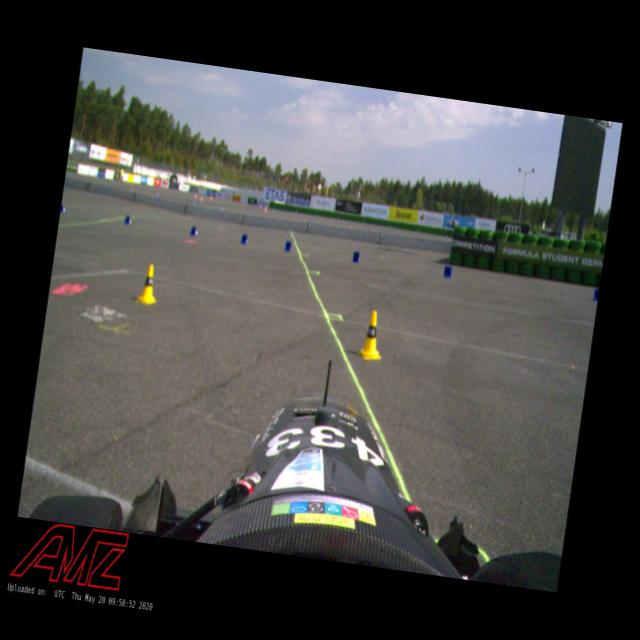blue_cone: (124, 214, 134, 226), (190, 226, 200, 237), (240, 233, 249, 245), (60, 203, 68, 214)
yellow_cone: (357, 309, 388, 362), (134, 262, 162, 306)
